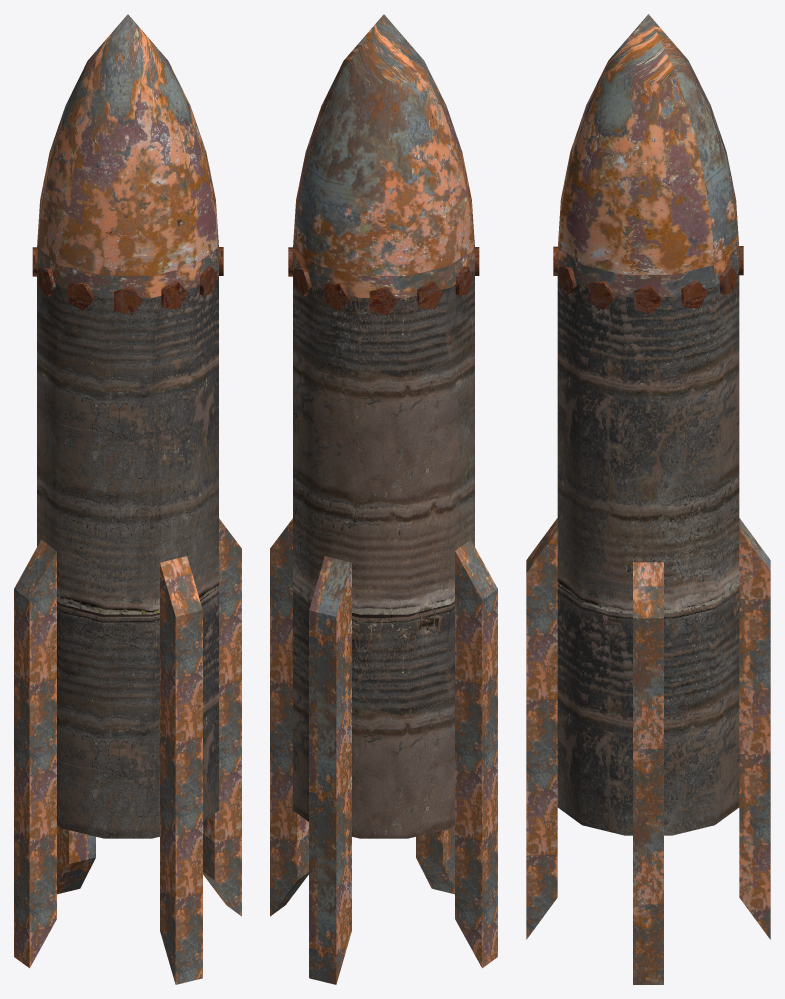
Rendered from rocket_bullet.FBX.
3 views of the same model, side by side, from view 1: azimuth 30°, elevation 25°; view 2: azimuth 150°, elevation 25°; view 3: azimuth 270°, elevation 25° (orthographic).
Parts seen in each view (by area): view 1: Cylinder001, end_1, end_002, end_004, screws, end_003; view 2: Cylinder001, end_003, end_002, end_004, screws, end_1; view 3: Cylinder001, end_004, end_1, end_003, screws.
Boxes of the visible parts, <box> form: Cylinder001: <box>37,14,218,838</box>; end_1: <box>160,556,202,984</box>; end_002: <box>14,539,56,968</box>; end_004: <box>203,518,241,916</box>; screws: <box>32,247,223,315</box>; end_003: <box>57,825,95,894</box>; Cylinder001: <box>293,14,474,838</box>; end_003: <box>309,556,351,984</box>; end_002: <box>455,539,497,968</box>; end_004: <box>270,518,308,916</box>; screws: <box>288,247,479,315</box>; end_1: <box>416,825,454,894</box>; Cylinder001: <box>557,14,739,835</box>; end_004: <box>633,562,663,984</box>; end_1: <box>526,518,557,939</box>; end_003: <box>739,518,770,939</box>; screws: <box>553,246,743,314</box>.
Bounding box in the file's own units: 78.01 × 324 × 78.01.
